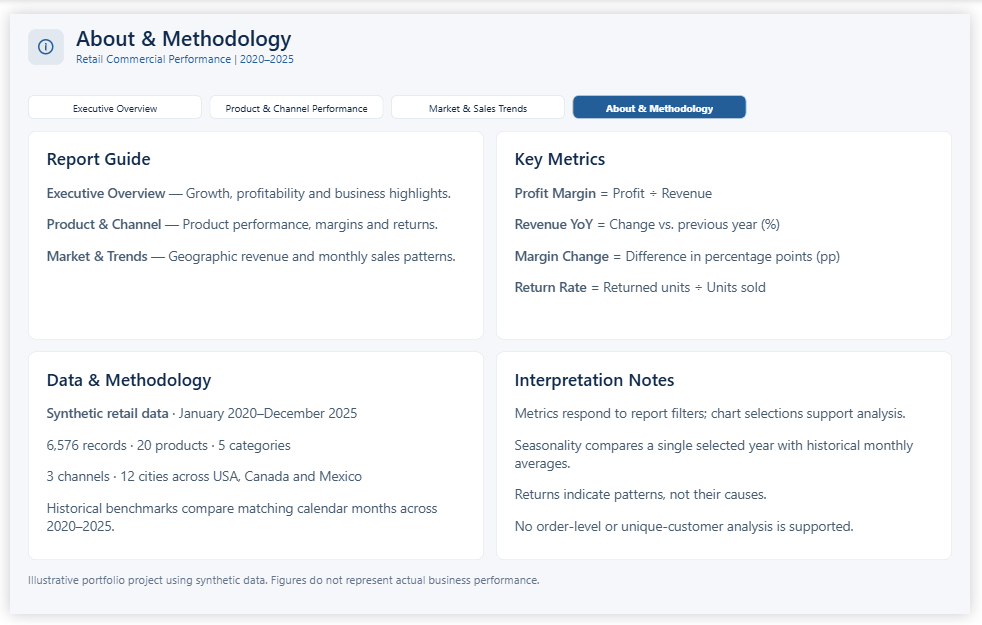

The dashboard page shown, as its layout file describes it:
{"tool":"powerbi","page":{"name":"About & Methodology","canvas":[1280,800],"ordinal":3},"visuals":[{"type":"textbox","box":[88,12,710,80],"z":0},{"type":"actionButton","box":[24,20,48,48],"z":1000},{"type":"pageNavigator","box":[24,108,960,32],"z":2000},{"type":"textbox","box":[24,156,608,278],"z":3000},{"type":"textbox","box":[648,156,608,278],"z":4000},{"type":"textbox","box":[24,450,608,278],"z":5000},{"type":"textbox","box":[648,450,608,278],"z":6000},{"type":"textbox","box":[24,744,1232,32],"z":7000}]}

Visuals, with their boxes in screenshot pixels (x1, y1, x2, y2), scaled from the page's 1280x800 canvas onto the 982x625 screenshot:
textbox: (68, 9, 612, 72)
actionButton: (18, 16, 55, 53)
pageNavigator: (18, 84, 755, 109)
textbox: (18, 122, 485, 339)
textbox: (497, 122, 964, 339)
textbox: (18, 352, 485, 569)
textbox: (497, 352, 964, 569)
textbox: (18, 581, 964, 606)
